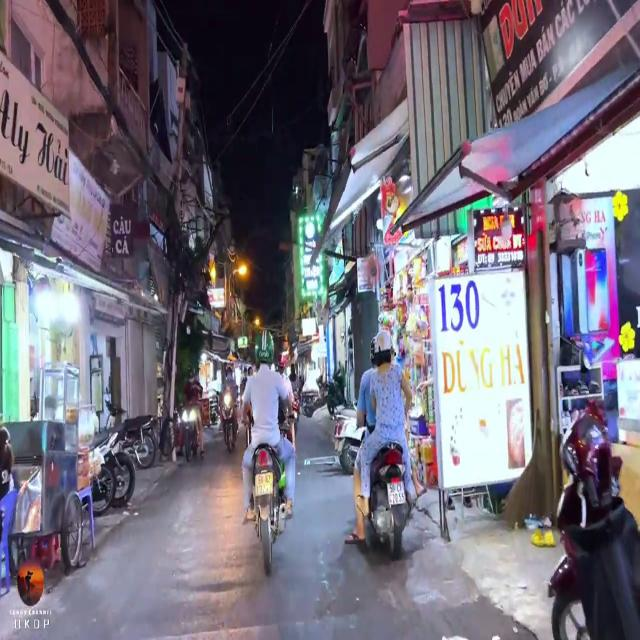bien_trang: (386, 479, 408, 509), (255, 473, 274, 497)
